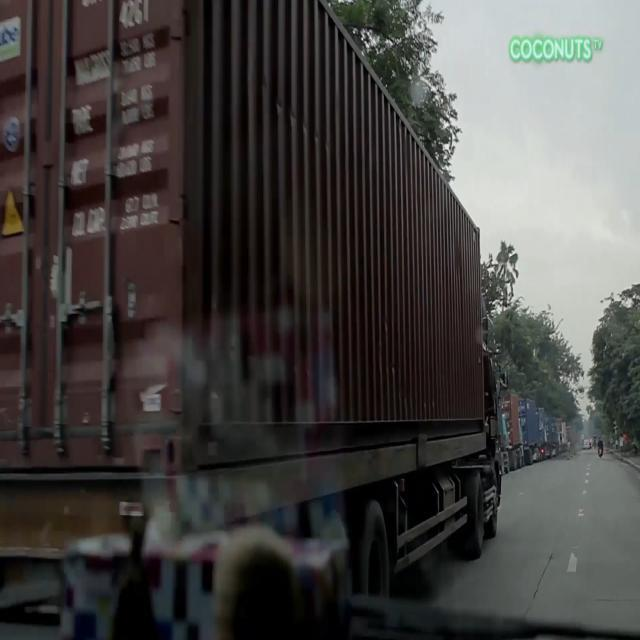truck: (0, 0, 503, 598), (502, 394, 524, 469)
